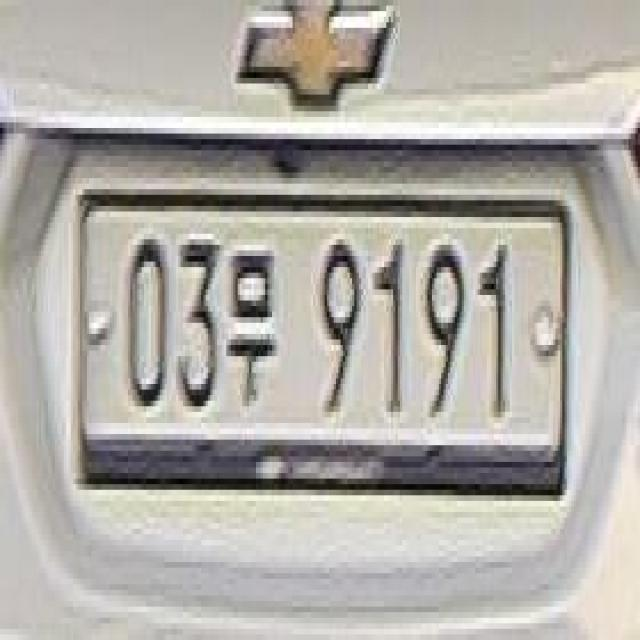illegal_plate: (74, 172, 573, 524)
